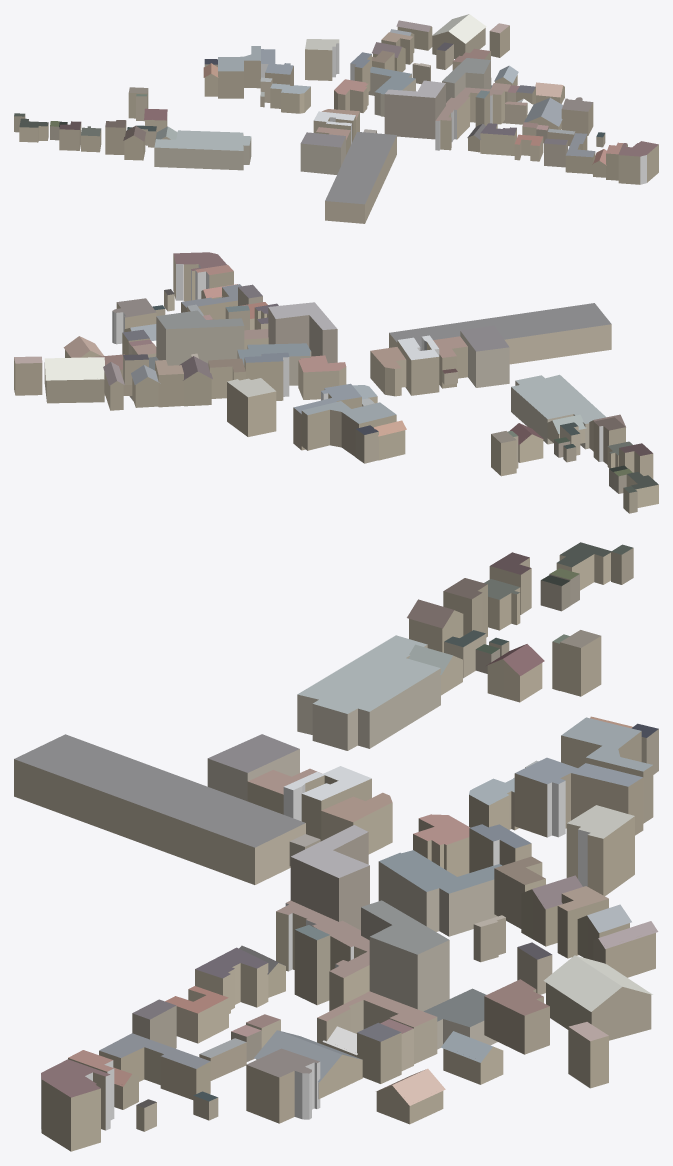
3 views of the same model, one above another, from view 1: azimuth 30°, elevation 25°; view 2: azimuth 150°, elevation 25°; view 3: azimuth 270°, elevation 25° (orthographic). The views are drawn at different scales.
Visible parts, largest first — view 1: tuile; view 2: tuile; view 3: tuile.
Boxes of the visible parts, bbox=[...] form: tuile: bbox=[14, 14, 658, 223]; tuile: bbox=[14, 252, 658, 513]; tuile: bbox=[14, 542, 658, 1151].
Size of the model in its own units: 220 by 33.17 by 127.
